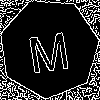M: (24, 23, 72, 74)
